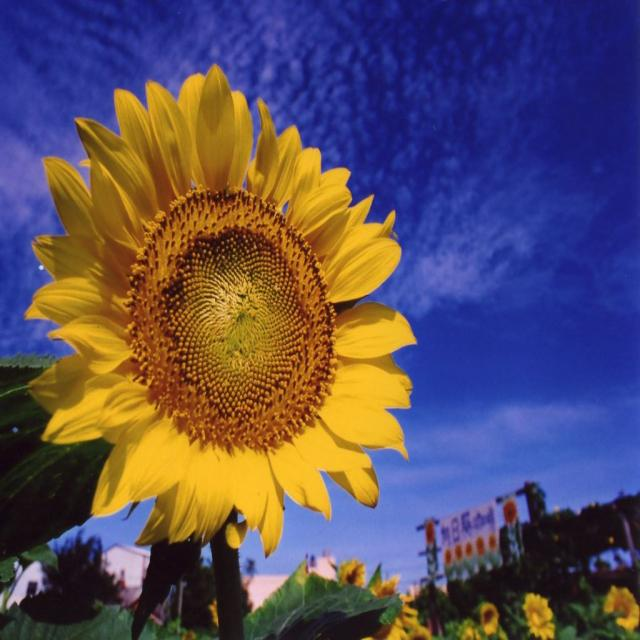sunflower: (21, 55, 422, 552), (514, 585, 562, 640), (599, 577, 640, 634)
